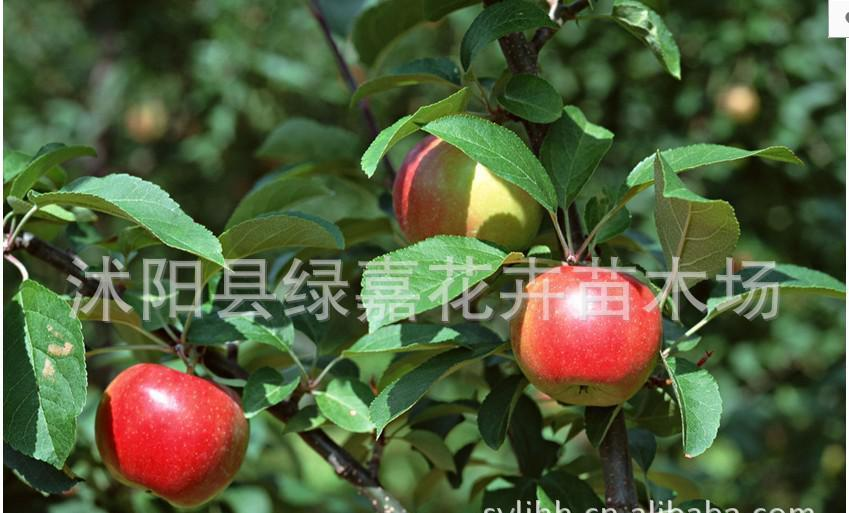apple: (94, 362, 249, 508), (513, 263, 662, 404), (391, 136, 547, 254)
